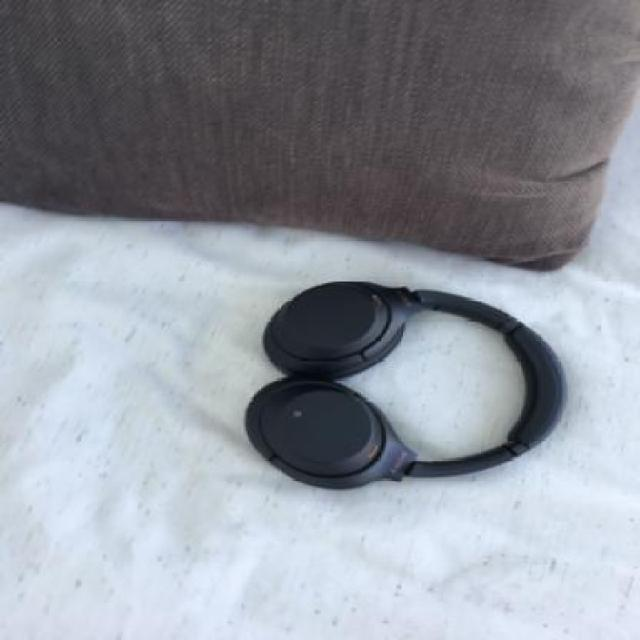earphone: (250, 238, 567, 534)
